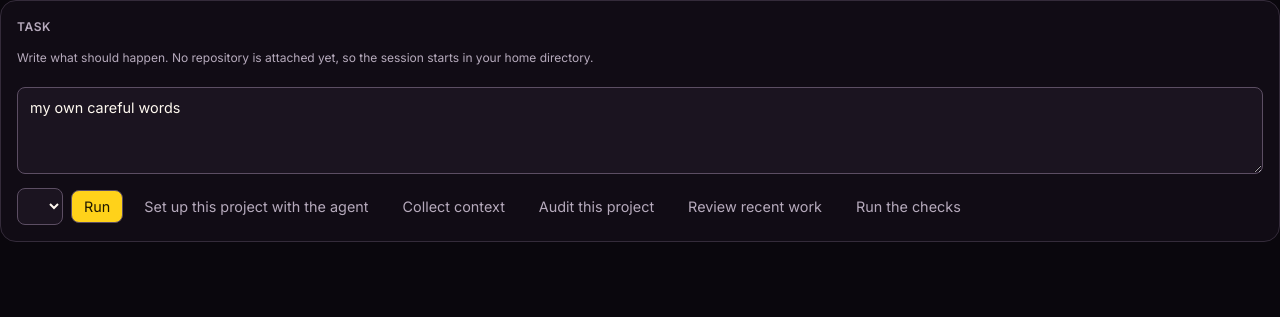
Test case: a shortcut over the person’s own words › drops the offer once the person edits the loaded text, so a press cannot throw the edit away (CO-352)
Click the button "Audit this project" at (596, 207), box x1=526 y1=190 x2=667 y2=223
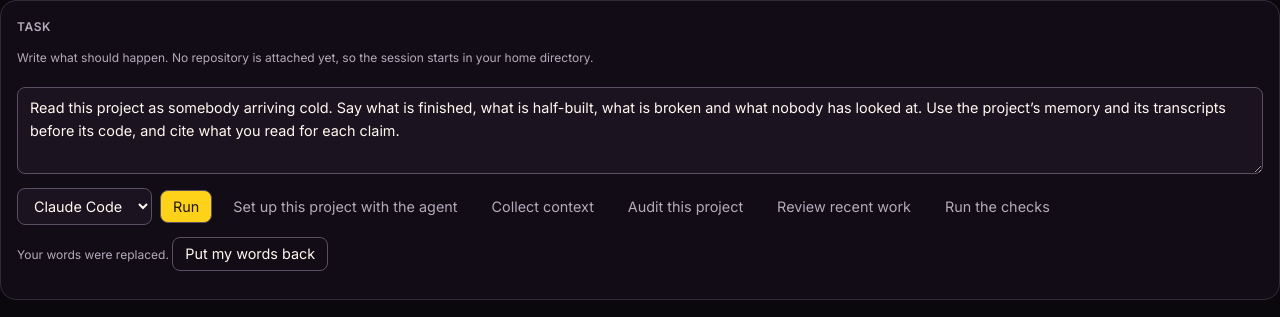
Now the button "Put my words back" is shown, box x1=172 y1=238 x2=328 y2=270
Replace the text in the text box with "the preset, now edited" at (640, 131), box x1=17 y1=87 x2=1263 y2=174
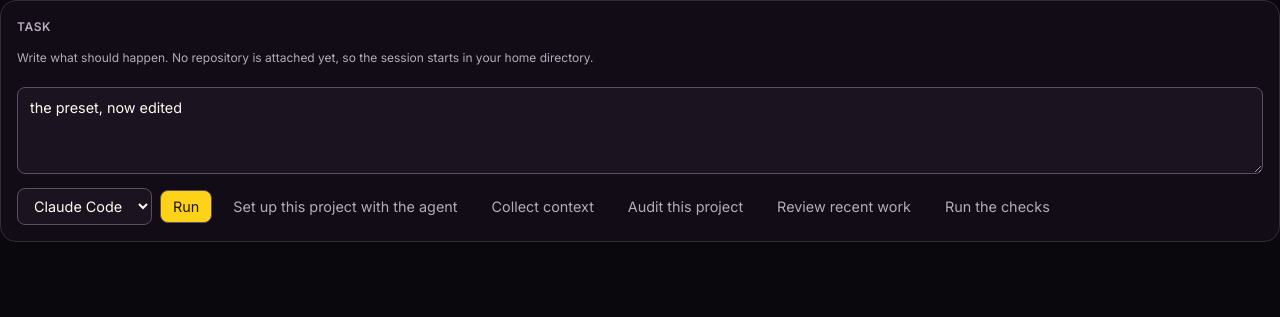
Now the button "Put my words back" is gone
